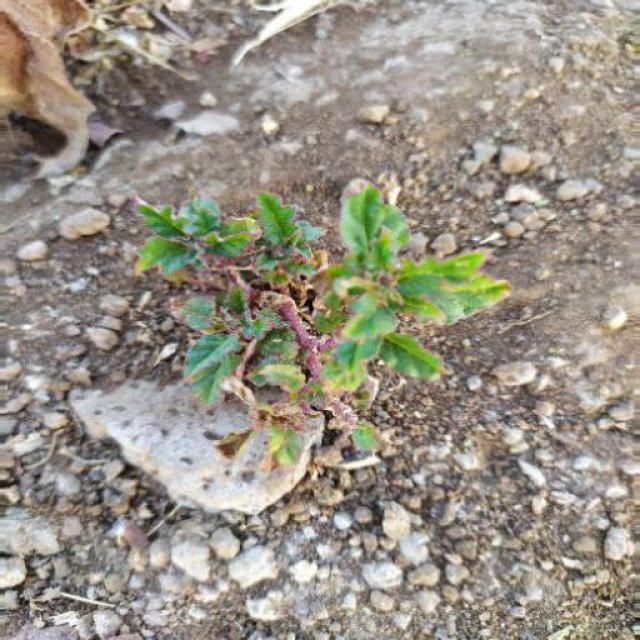weed: (120, 175, 518, 459)
